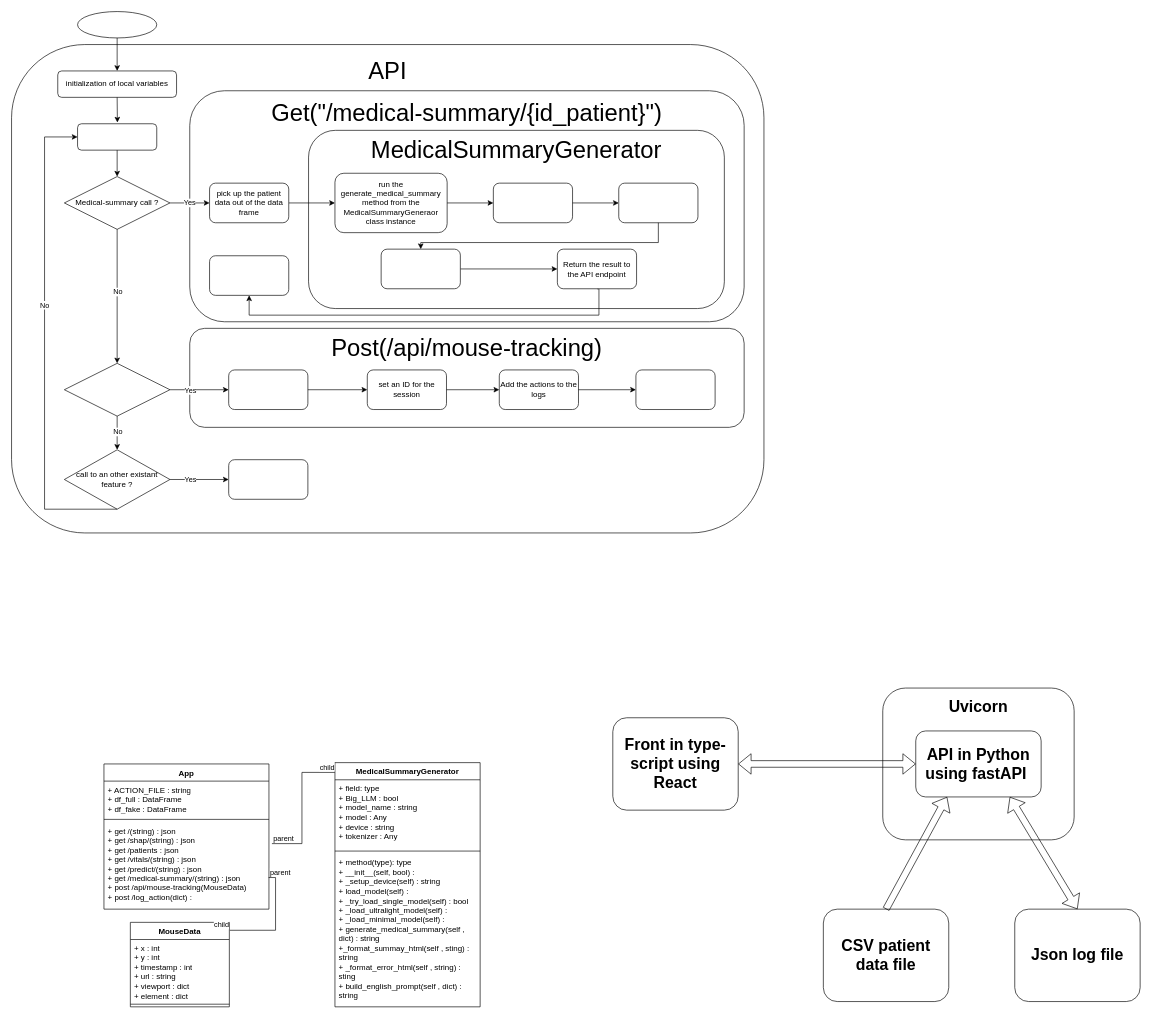
This 1152x1020 diagram has some shape labels left out. Each missing label, with the centre of its shape:
Get the result with the tokenizer.decode: point (420, 268)
Load previous logs: point (268, 389)
mouse-tracking call ?: point (117, 389)
Respond to the call: point (268, 479)
Run the LLM: point (658, 202)
Save the file: point (675, 389)
Sent a json to the javascript client: point (249, 275)
Start: point (117, 24)
Use the build_english_prompt method: point (533, 202)
Waiting for a call: point (117, 136)
